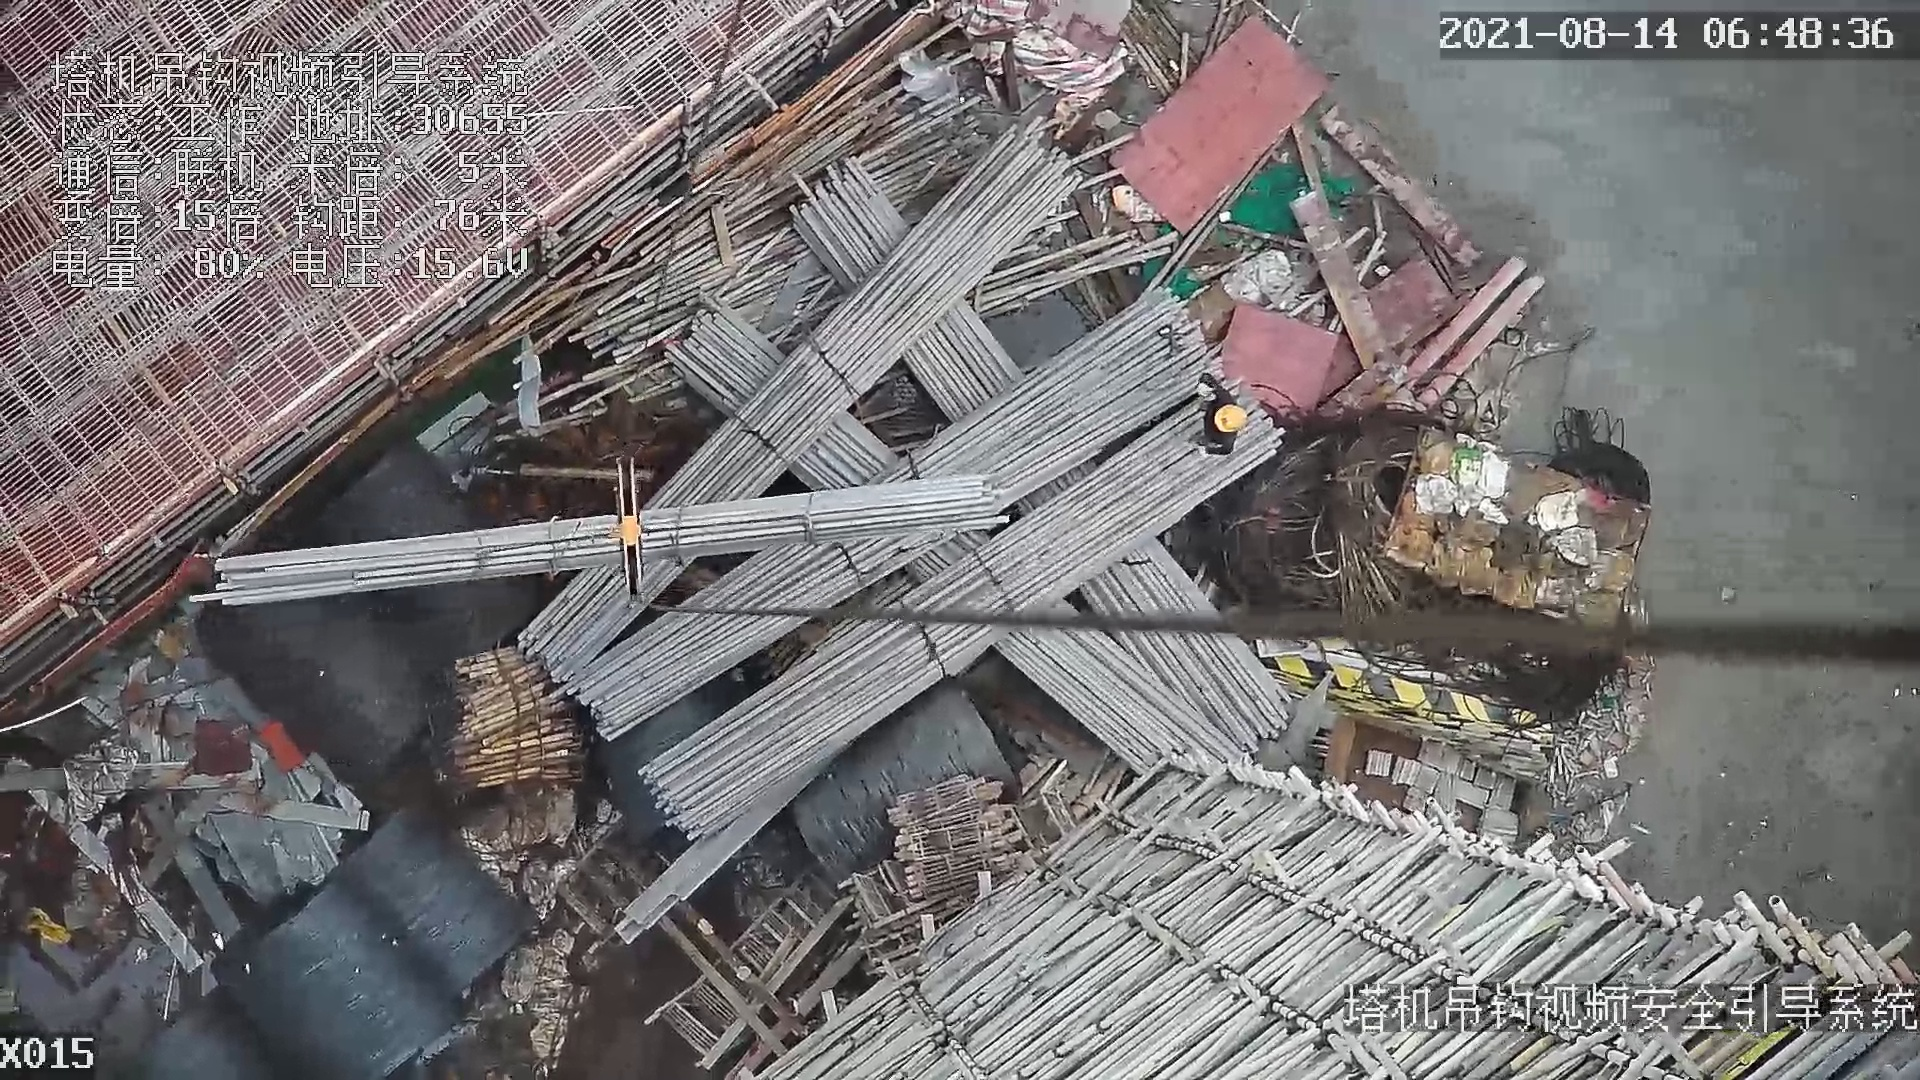board: (1101, 12, 1326, 238)
helmet: (1215, 404, 1255, 434)
hook: (608, 451, 653, 606)
person: (1196, 369, 1253, 464)
scaffold: (451, 652, 589, 801)
